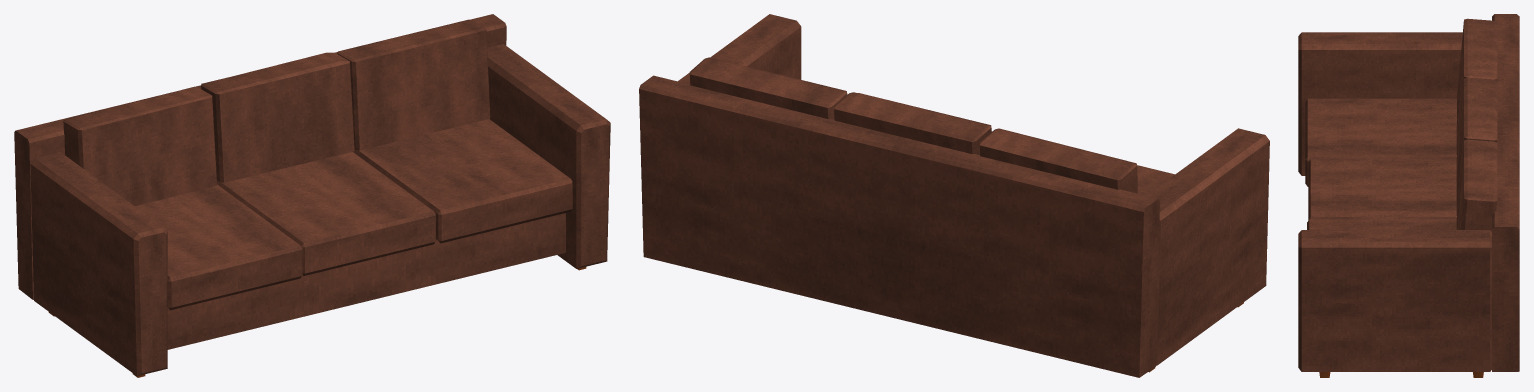
Rendered from couch_large_red.glb.
3 renders of one model, left to right at view 1: azimuth 30°, elevation 25°; view 2: azimuth 150°, elevation 25°; view 3: azimuth 270°, elevation 25°, orthographic. The views are drawn at different scales.
Parts seen in each view (by area): view 1: couch_large_red; view 2: couch_large_red; view 3: couch_large_red.
Part boxes in pixels (x1=…): couch_large_red: x1=14, y1=14, x2=610, y2=377; couch_large_red: x1=639, y1=14, x2=1269, y2=377; couch_large_red: x1=1298, y1=14, x2=1519, y2=377.
Bounding box in the file's own units: 3.16 × 1.19 × 1.39.
Materials: 1 (1 with a texture image).
